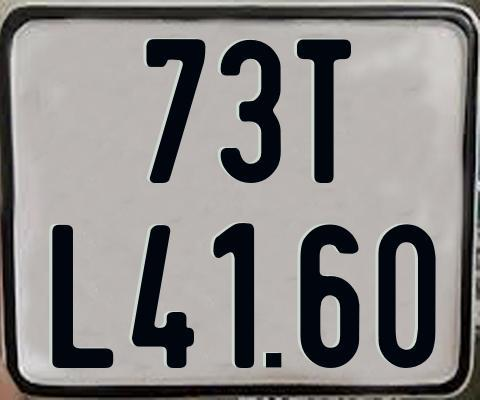0: (377, 222, 438, 366)
1: (213, 222, 258, 373)
3: (221, 37, 285, 182)
4: (131, 224, 196, 369)
6: (299, 223, 359, 369)
7: (145, 39, 209, 185)
L: (49, 223, 110, 366)
T: (294, 38, 353, 188)
